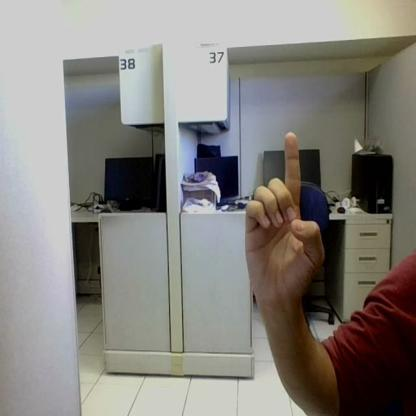D: (245, 132, 324, 300)
